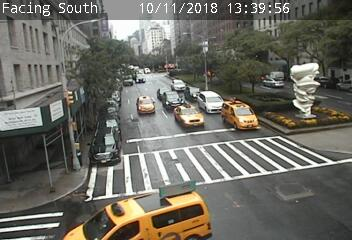car: (222, 100, 259, 132), (89, 128, 120, 165), (174, 104, 204, 130), (197, 91, 225, 114), (162, 91, 184, 111), (137, 96, 155, 114), (184, 86, 203, 102), (170, 79, 187, 93), (263, 78, 284, 89), (157, 87, 171, 101)
